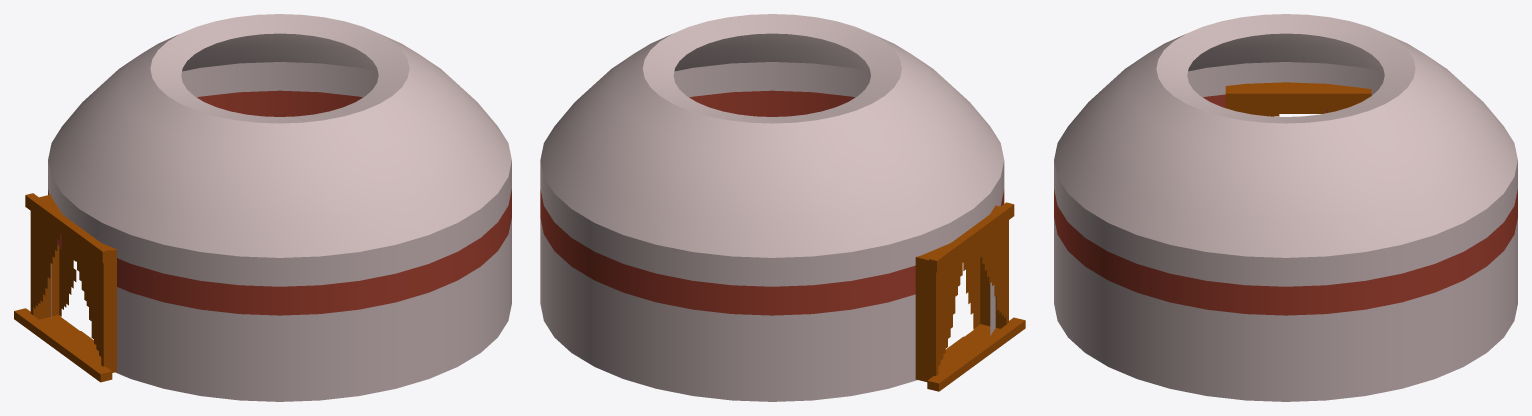
The model's file is Urta.fbx.
3 renders of one model, left to right at view 1: azimuth 30°, elevation 25°; view 2: azimuth 150°, elevation 25°; view 3: azimuth 270°, elevation 25°, orthographic.
Parts seen in each view (by area): view 1: Объект_Цистерна_2; view 2: Объект_Цистерна_2; view 3: Объект_Цистерна_2.
Part boxes in pixels (bbox=[...]): Объект_Цистерна_2: bbox=[14, 14, 511, 401]; Объект_Цистерна_2: bbox=[540, 14, 1025, 401]; Объект_Цистерна_2: bbox=[1054, 14, 1517, 401].
Size of the model in its own units: 252 by 136 by 243.
